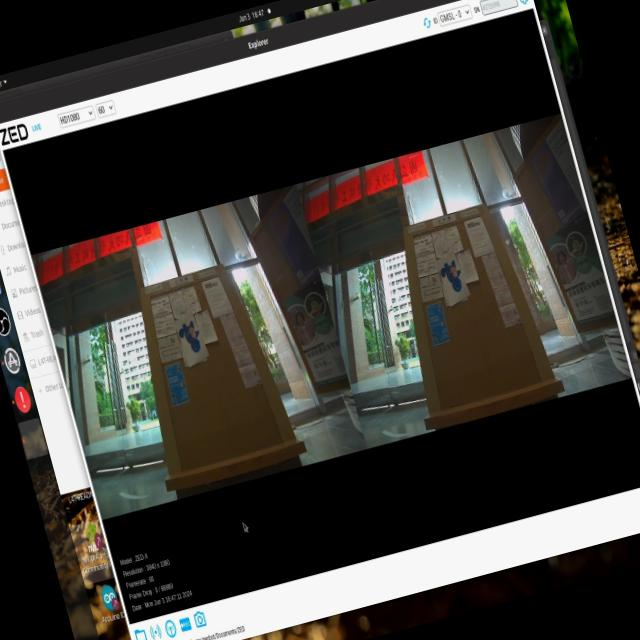blue: (426, 245, 470, 302), (172, 309, 206, 359)
